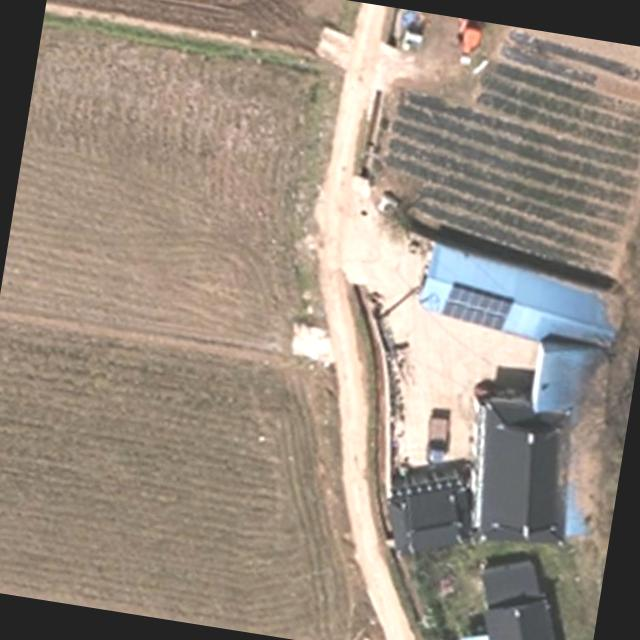solar: (437, 278, 520, 334)
